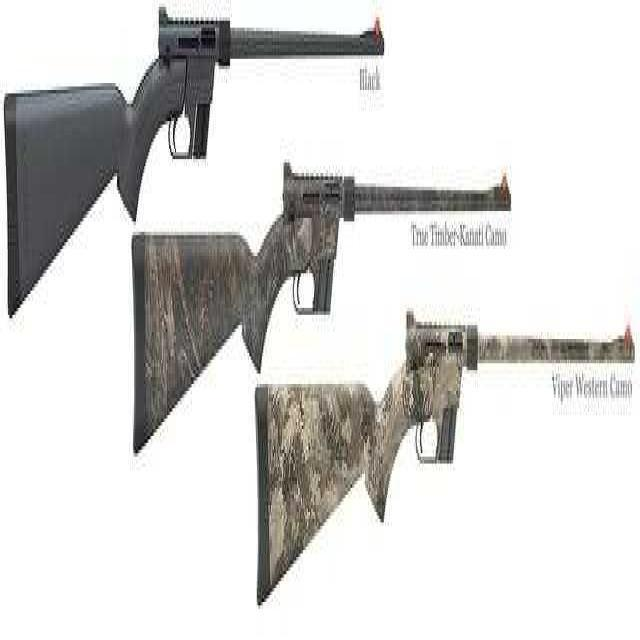weapon: (236, 260, 634, 634), (111, 134, 528, 453), (0, 0, 415, 298)
